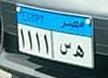1: (43, 34, 49, 55), (27, 30, 32, 51), (36, 32, 40, 53), (20, 29, 24, 48)
haa: (72, 44, 86, 59)
seen: (58, 41, 71, 56)
